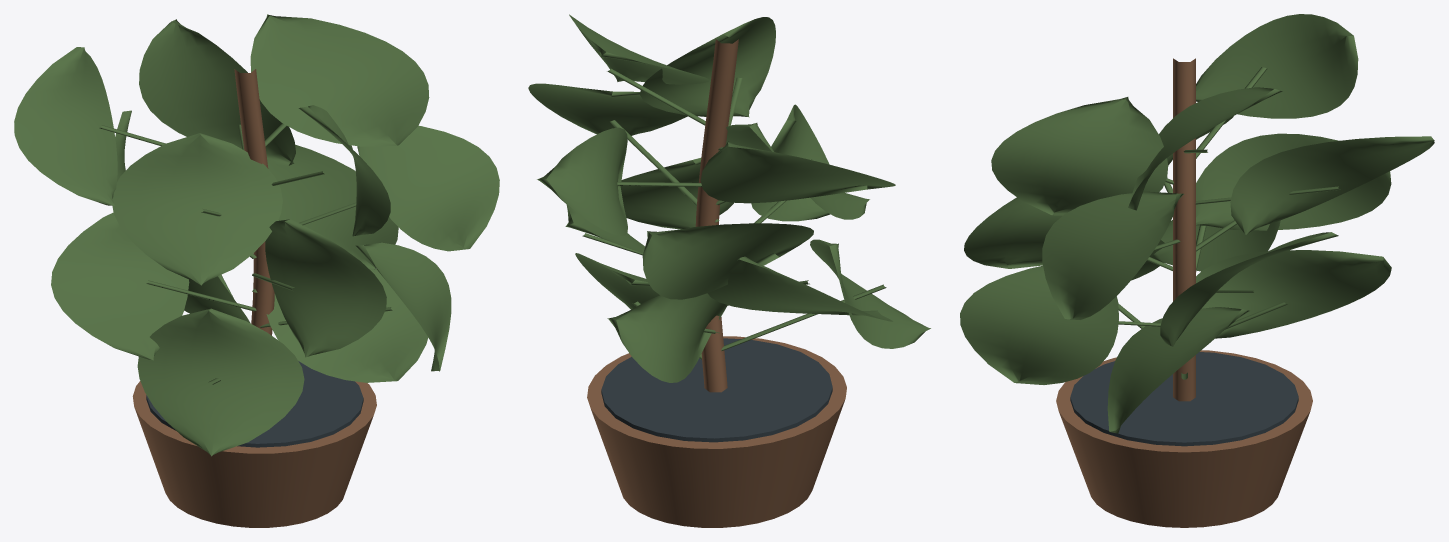
File: plant-14-0.glb
The picture shows the model from 3 angles, left to right: view 1: azimuth 30°, elevation 25°; view 2: azimuth 150°, elevation 25°; view 3: azimuth 270°, elevation 25°; orthographic projection. The views are drawn at different scales.
Parts seen in each view (by area): view 1: part (×17); view 2: part (×17); view 3: part (×15).
Boxes of the visible parts, bbox=[...] form: part (×17): bbox=[14, 14, 499, 527]; part (×17): bbox=[528, 14, 930, 527]; part (×15): bbox=[960, 14, 1434, 527].
Bounding box in the file's own units: 1 × 1 × 1.
